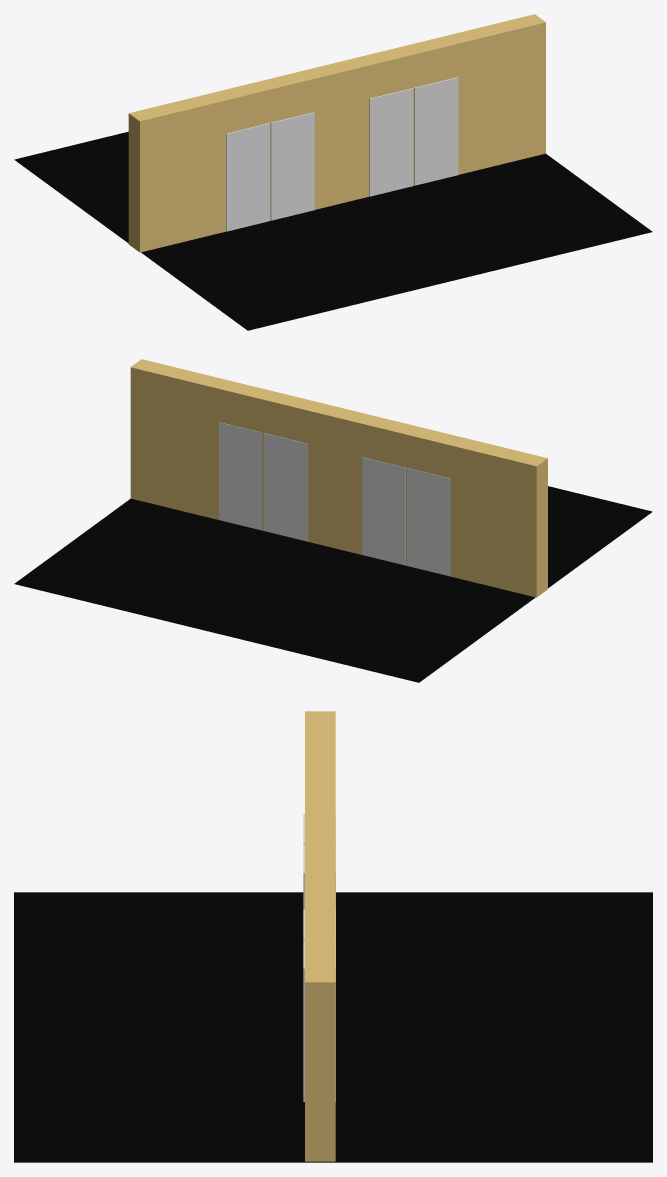
Rendered from doorway.glb.
The picture shows the model from 3 angles, top to bottom: view 1: azimuth 30°, elevation 25°; view 2: azimuth 150°, elevation 25°; view 3: azimuth 270°, elevation 25°; orthographic projection. The views are drawn at different scales.
Visible parts, largest first — view 1: Plane, Cube, Cube.001, Cube.002, Cube.004, Cube.003; view 2: Plane, Cube, Cube.001, Cube.003, Cube.004, Cube.002; view 3: Plane, Cube.
Boxes of the visible parts, <box> form: Plane: <box>14,131,652,330</box>; Cube: <box>128,14,545,252</box>; Cube.001: <box>369,88,413,196</box>; Cube.002: <box>414,77,458,185</box>; Cube.004: <box>270,112,314,220</box>; Cube.003: <box>226,123,269,231</box>; Plane: <box>14,486,652,682</box>; Cube: <box>130,359,547,597</box>; Cube.001: <box>263,433,307,541</box>; Cube.003: <box>407,468,450,576</box>; Cube.004: <box>362,457,405,565</box>; Cube.002: <box>219,422,262,530</box>; Plane: <box>14,892,652,1162</box>; Cube: <box>305,711,335,1161</box>.
Bounding box in the file's own units: 3.62 × 1.12 × 3.61.
